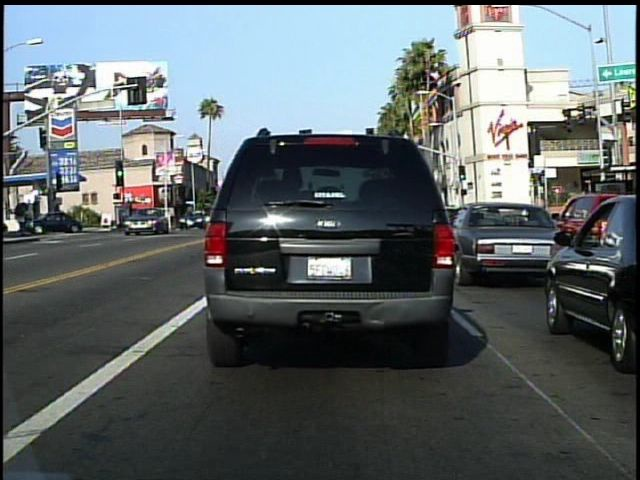person: (11, 200, 34, 238)
